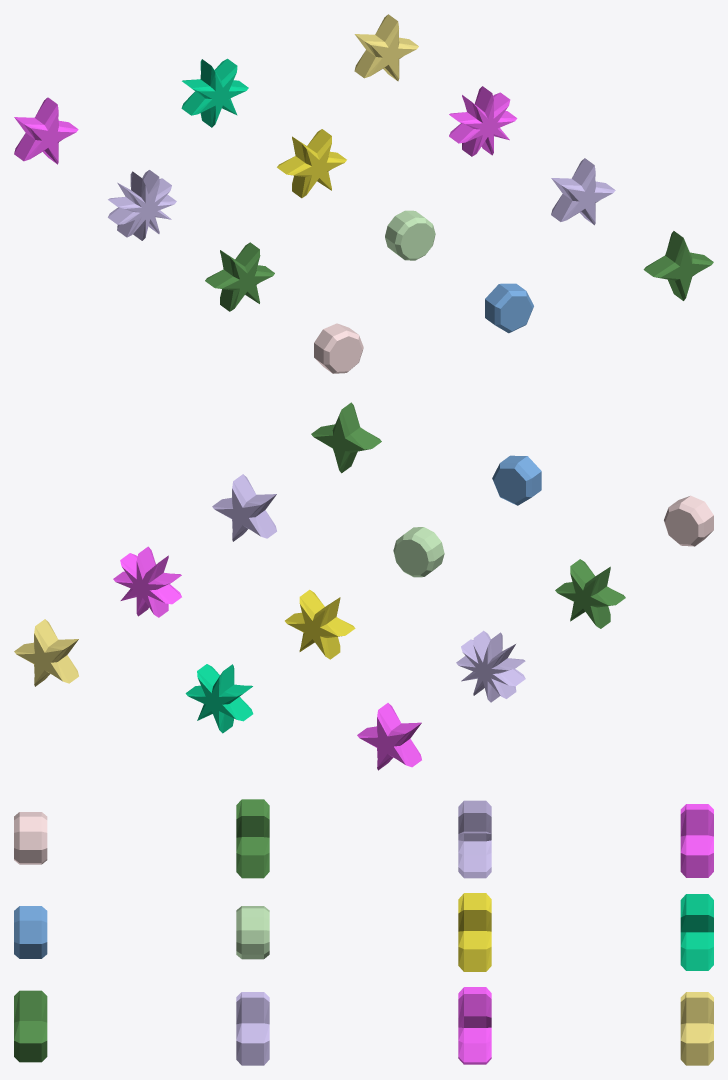
Rendered from std_txtrd_mats_3_LinearExtrusionTest_2023-06-04-21-23-01.gltf.
The picture shows the model from 3 angles, top to bottom: view 1: azimuth 30°, elevation 25°; view 2: azimuth 150°, elevation 25°; view 3: azimuth 270°, elevation 25°; orthographic projection. The views are drawn at different scales.
Bounding box in the file's own units: 471 × 71.31 × 630.
